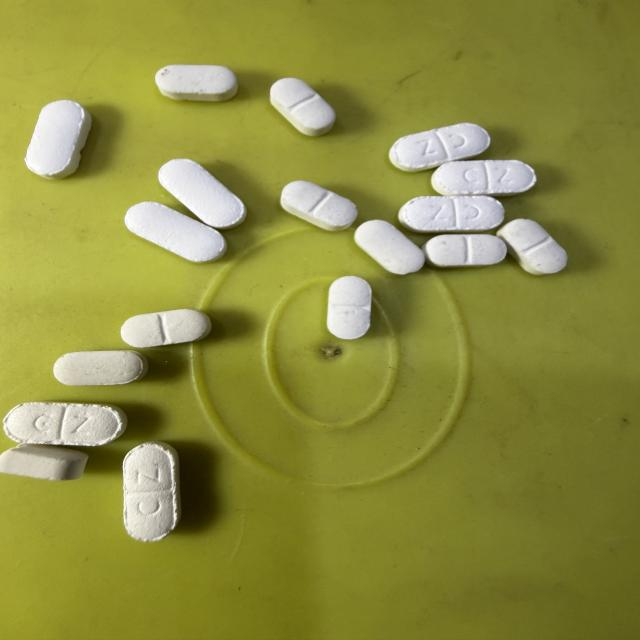pill: (159, 159, 246, 229), (125, 202, 226, 262), (123, 442, 180, 541), (4, 402, 126, 446), (25, 100, 91, 178), (389, 123, 490, 171), (498, 219, 567, 275), (399, 196, 504, 232), (355, 220, 424, 274), (281, 181, 357, 230), (271, 78, 335, 136), (432, 160, 536, 195), (121, 309, 211, 347), (54, 350, 147, 385), (0, 444, 88, 480), (156, 65, 237, 101), (327, 276, 371, 339), (423, 234, 506, 267)
